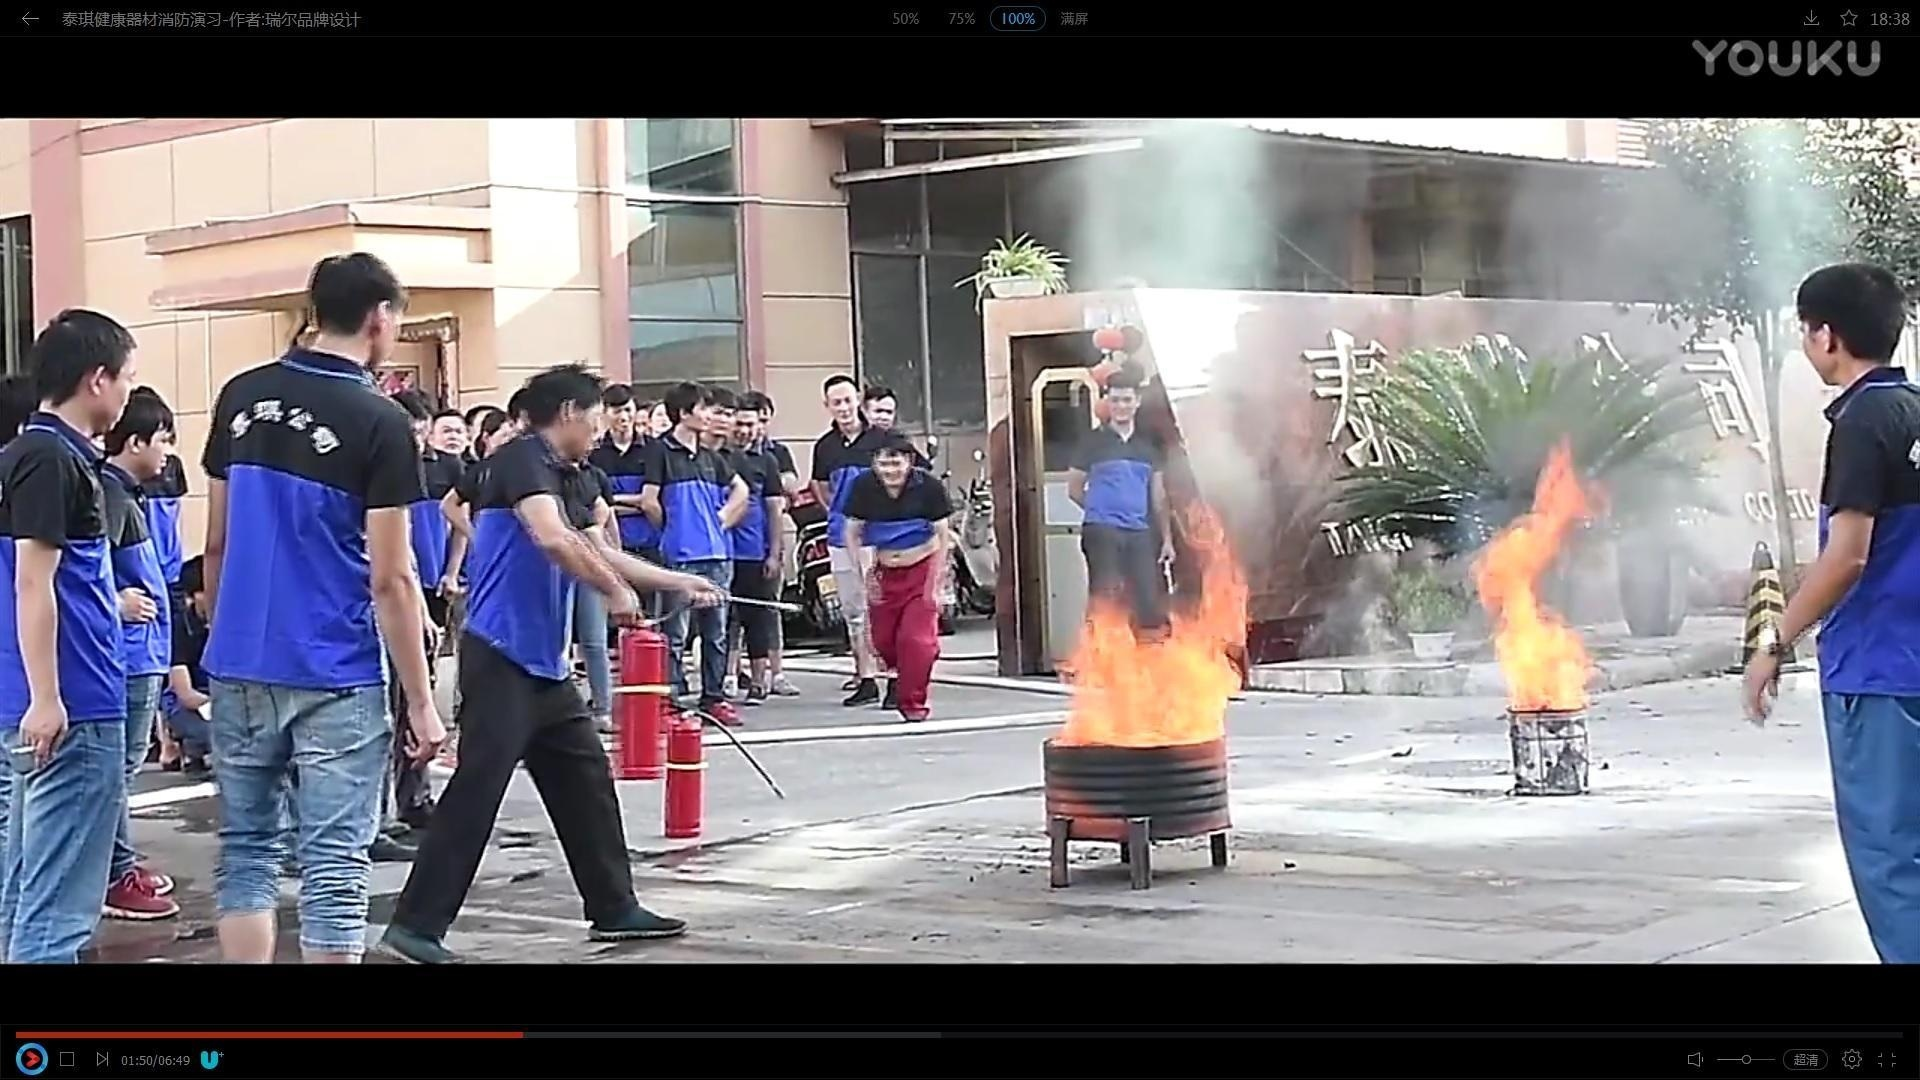fire: (1059, 510, 1255, 753), (1480, 439, 1604, 715)
